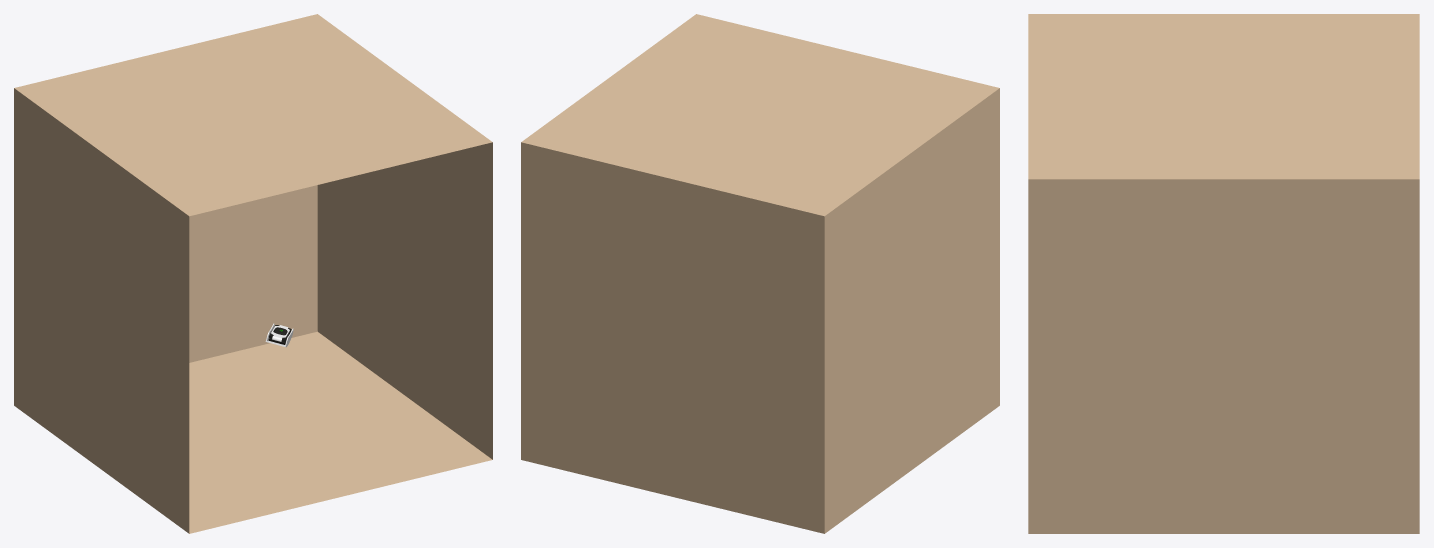
The model's file is Asset.glb.
The picture shows the model from 3 angles, left to right: view 1: azimuth 30°, elevation 25°; view 2: azimuth 150°, elevation 25°; view 3: azimuth 270°, elevation 25°; orthographic projection. The views are drawn at different scales.
Parts seen in each view (by area): view 1: Cube; view 2: Cube; view 3: Cube.
Boxes of the visible parts, bbox=[...] form: Cube: bbox=[14, 14, 492, 533]; Cube: bbox=[521, 14, 999, 533]; Cube: bbox=[1028, 14, 1419, 533].
Size of the model in its own units: 12.45 by 12.45 by 12.45.
